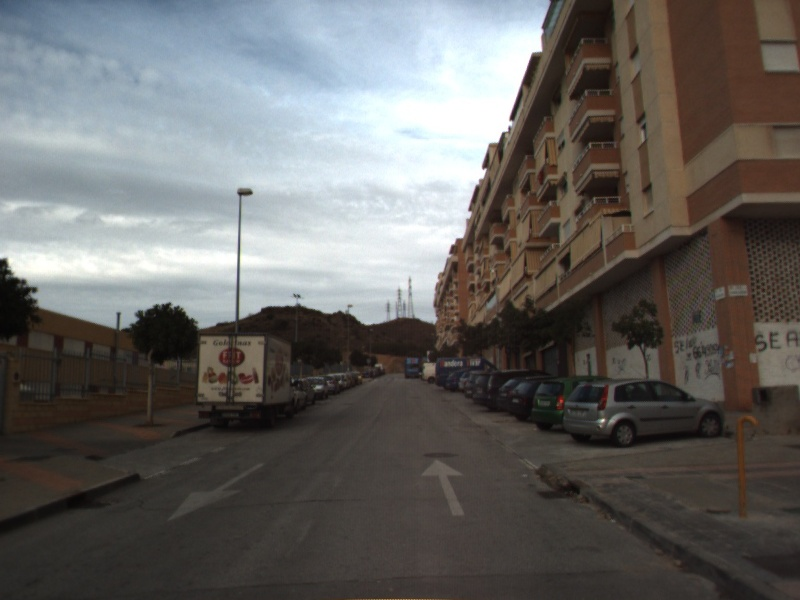STRAIGHT: (419, 457, 467, 517)
